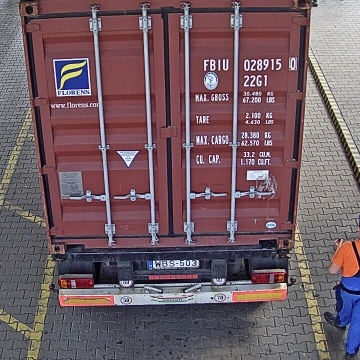serial_id: (204, 57, 297, 70)
